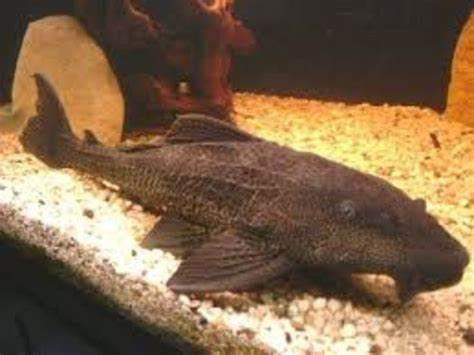Janitor Fish: (25, 71, 469, 310)
